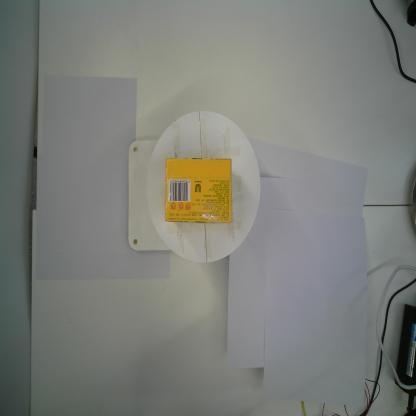Instant Drink: (162, 154, 234, 225)
